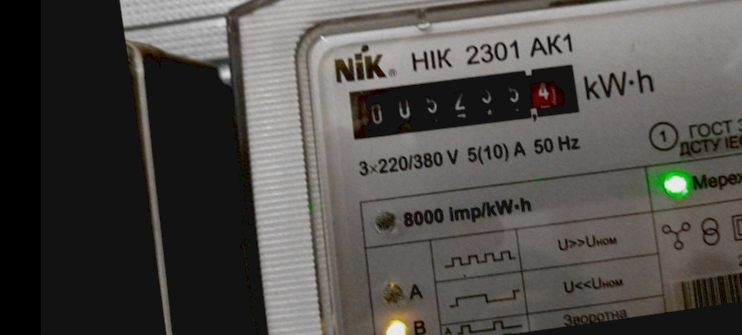0: (368, 97, 387, 125), (396, 91, 414, 118)
2: (451, 83, 468, 109)
3: (478, 77, 495, 103)
4: (535, 73, 554, 101)
5: (505, 74, 524, 103), (423, 86, 441, 114)
screen: (338, 48, 593, 150)
